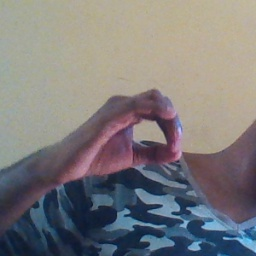O: (63, 84, 188, 181)
